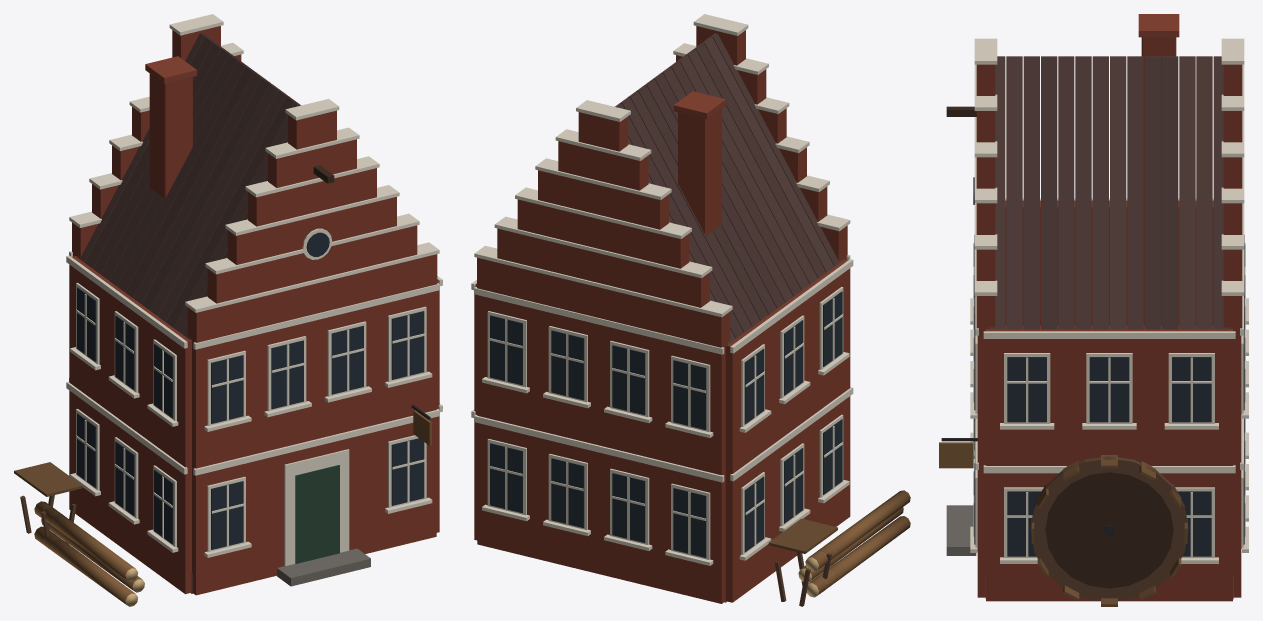
File: sawmill_3.glb
3 views of the same model, side by side, from view 1: azimuth 30°, elevation 25°; view 2: azimuth 150°, elevation 25°; view 3: azimuth 270°, elevation 25° (orthographic). The views are drawn at different scales.
Visible parts, largest first — view 1: sawmill3_brick, sawmill3_tiles, sawmill3_stone, sawmill3_glass, sawmill3_wood, sawmill3_log; view 2: sawmill3_brick, sawmill3_tiles, sawmill3_glass, sawmill3_stone, sawmill3_wood, sawmill3_log; view 3: sawmill3_tiles, sawmill3_brick, sawmill3_wood, sawmill3_stone, sawmill3_glass.
Boxes of the visible parts, x1=… form: sawmill3_brick: x1=69, y1=26, x2=439, y2=595; sawmill3_tiles: x1=77, y1=33, x2=300, y2=339; sawmill3_stone: x1=66, y1=14, x2=442, y2=593; sawmill3_glass: x1=77, y1=232, x2=424, y2=549; sawmill3_wood: x1=14, y1=165, x2=431, y2=563; sawmill3_log: x1=34, y1=501, x2=144, y2=606; sawmill3_brick: x1=474, y1=26, x2=850, y2=603; sawmill3_tiles: x1=615, y1=33, x2=842, y2=344; sawmill3_glass: x1=490, y1=291, x2=842, y2=557; sawmill3_stone: x1=471, y1=14, x2=853, y2=602; sawmill3_wood: x1=487, y1=287, x2=843, y2=606; sawmill3_log: x1=798, y1=490, x2=910, y2=597; sawmill3_tiles: x1=989, y1=56, x2=1229, y2=329; sawmill3_brick: x1=976, y1=14, x2=1242, y2=601; sawmill3_wood: x1=939, y1=106, x2=1245, y2=606; sawmill3_stone: x1=946, y1=38, x2=1248, y2=599; sawmill3_glass: x1=973, y1=177, x2=1244, y2=556.
Bounding box in the file's own units: 8.45 × 10.87 × 6.27.
